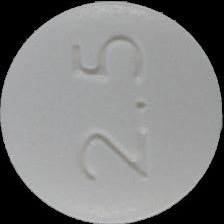42291-618: (0, 0, 224, 224)
